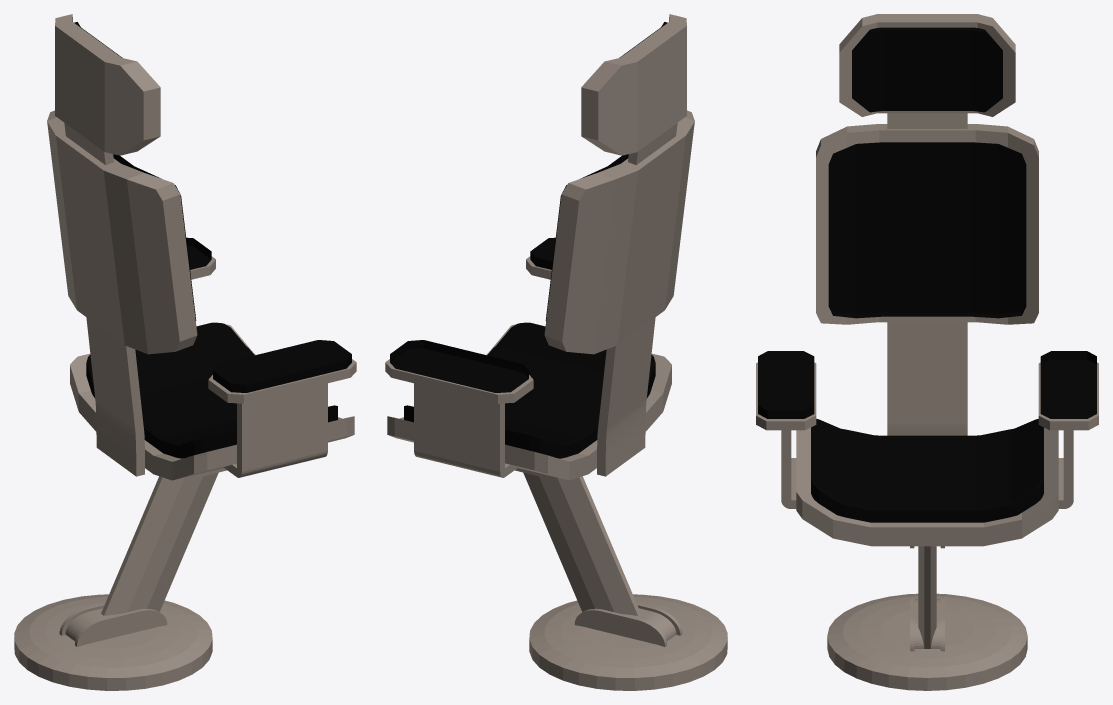
File: chèèèhz.fbx
3 views of the same model, side by side, from view 1: azimuth 30°, elevation 25°; view 2: azimuth 150°, elevation 25°; view 3: azimuth 270°, elevation 25° (orthographic).
Visible parts, largest first — view 1: armature, coussins; view 2: armature, coussins; view 3: coussins, armature.
Part boxes in pixels (left/top/right/bottom): armature: left=14, top=14, right=356, bottom=690; coussins: left=74, top=22, right=351, bottom=458; armature: left=385, top=14, right=727, bottom=690; coussins: left=390, top=22, right=667, bottom=458; coussins: left=758, top=27, right=1096, bottom=522; armature: left=756, top=14, right=1098, bottom=690.
Bounding box in the file's own units: 631 × 1362 × 684.
